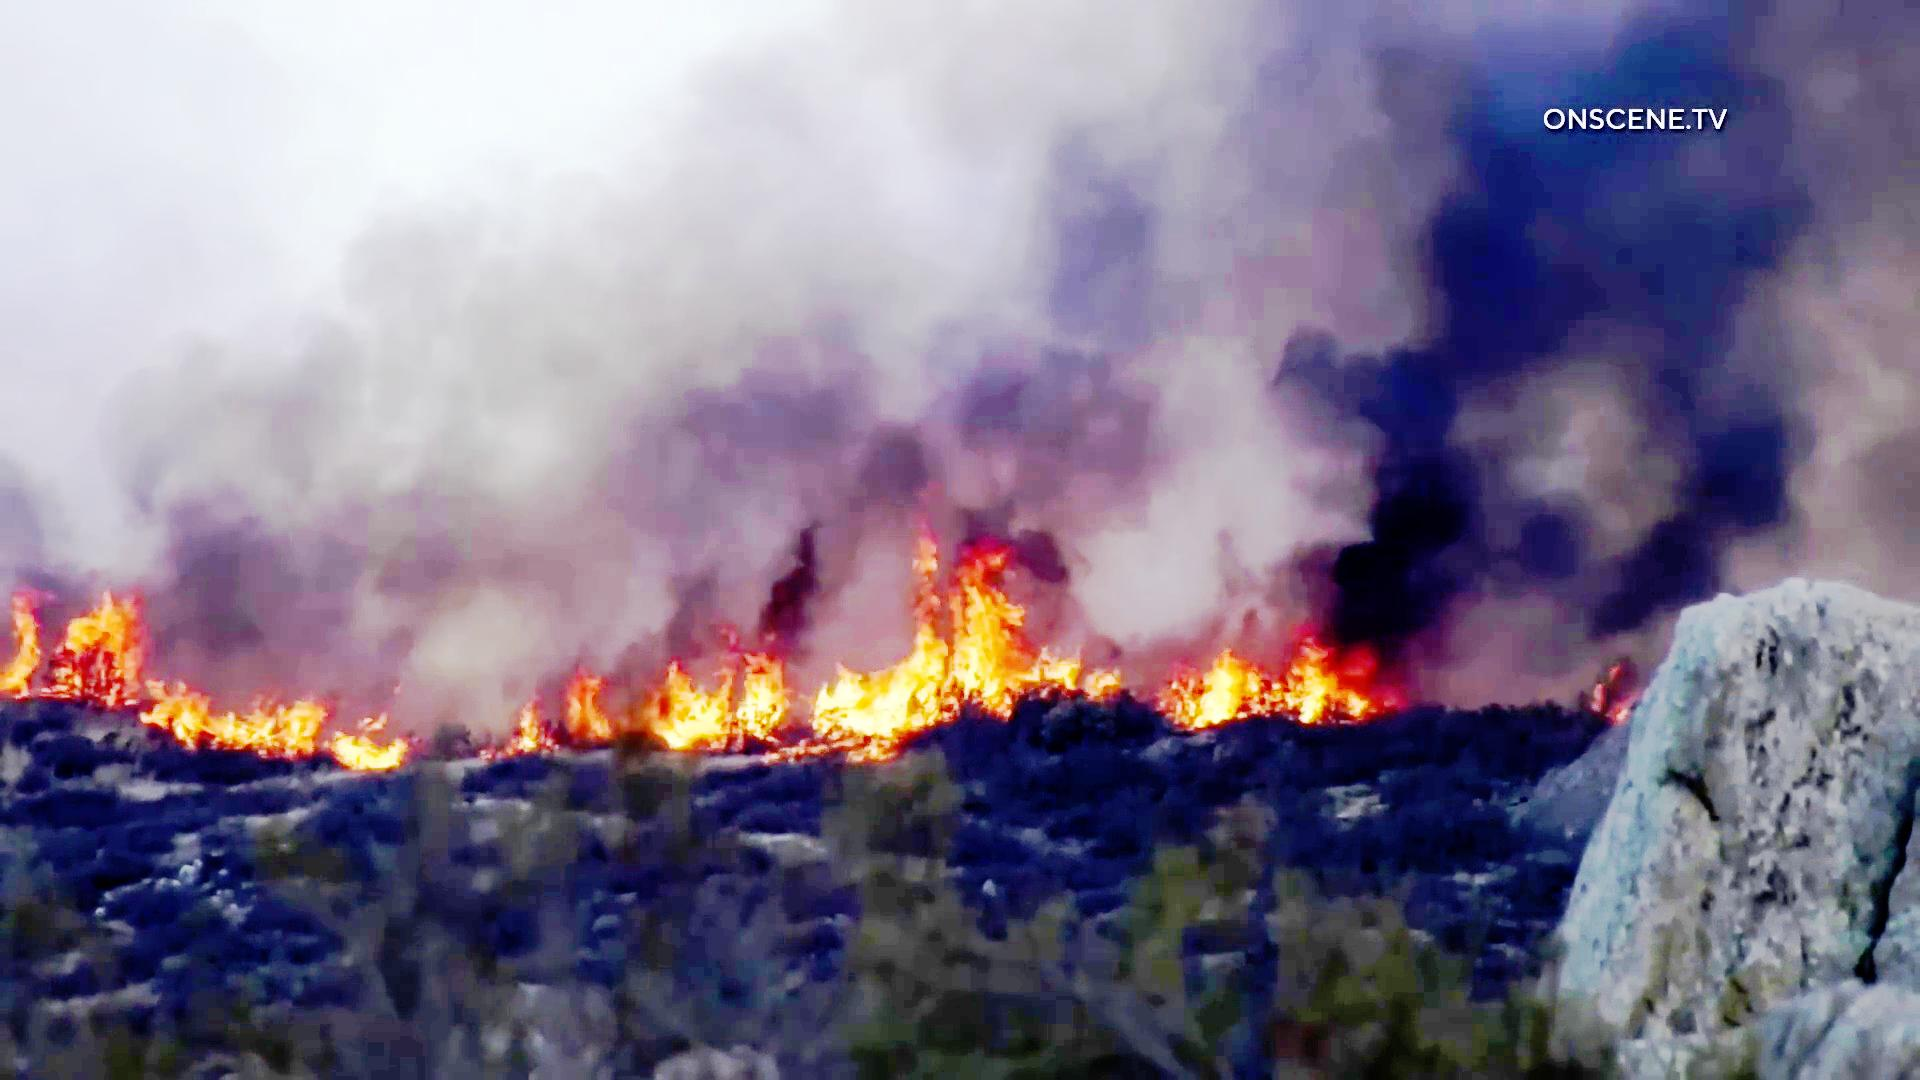fire: (815, 533, 1095, 744), (1147, 583, 1386, 732), (0, 571, 189, 740)
smoke: (1348, 166, 1849, 522)
